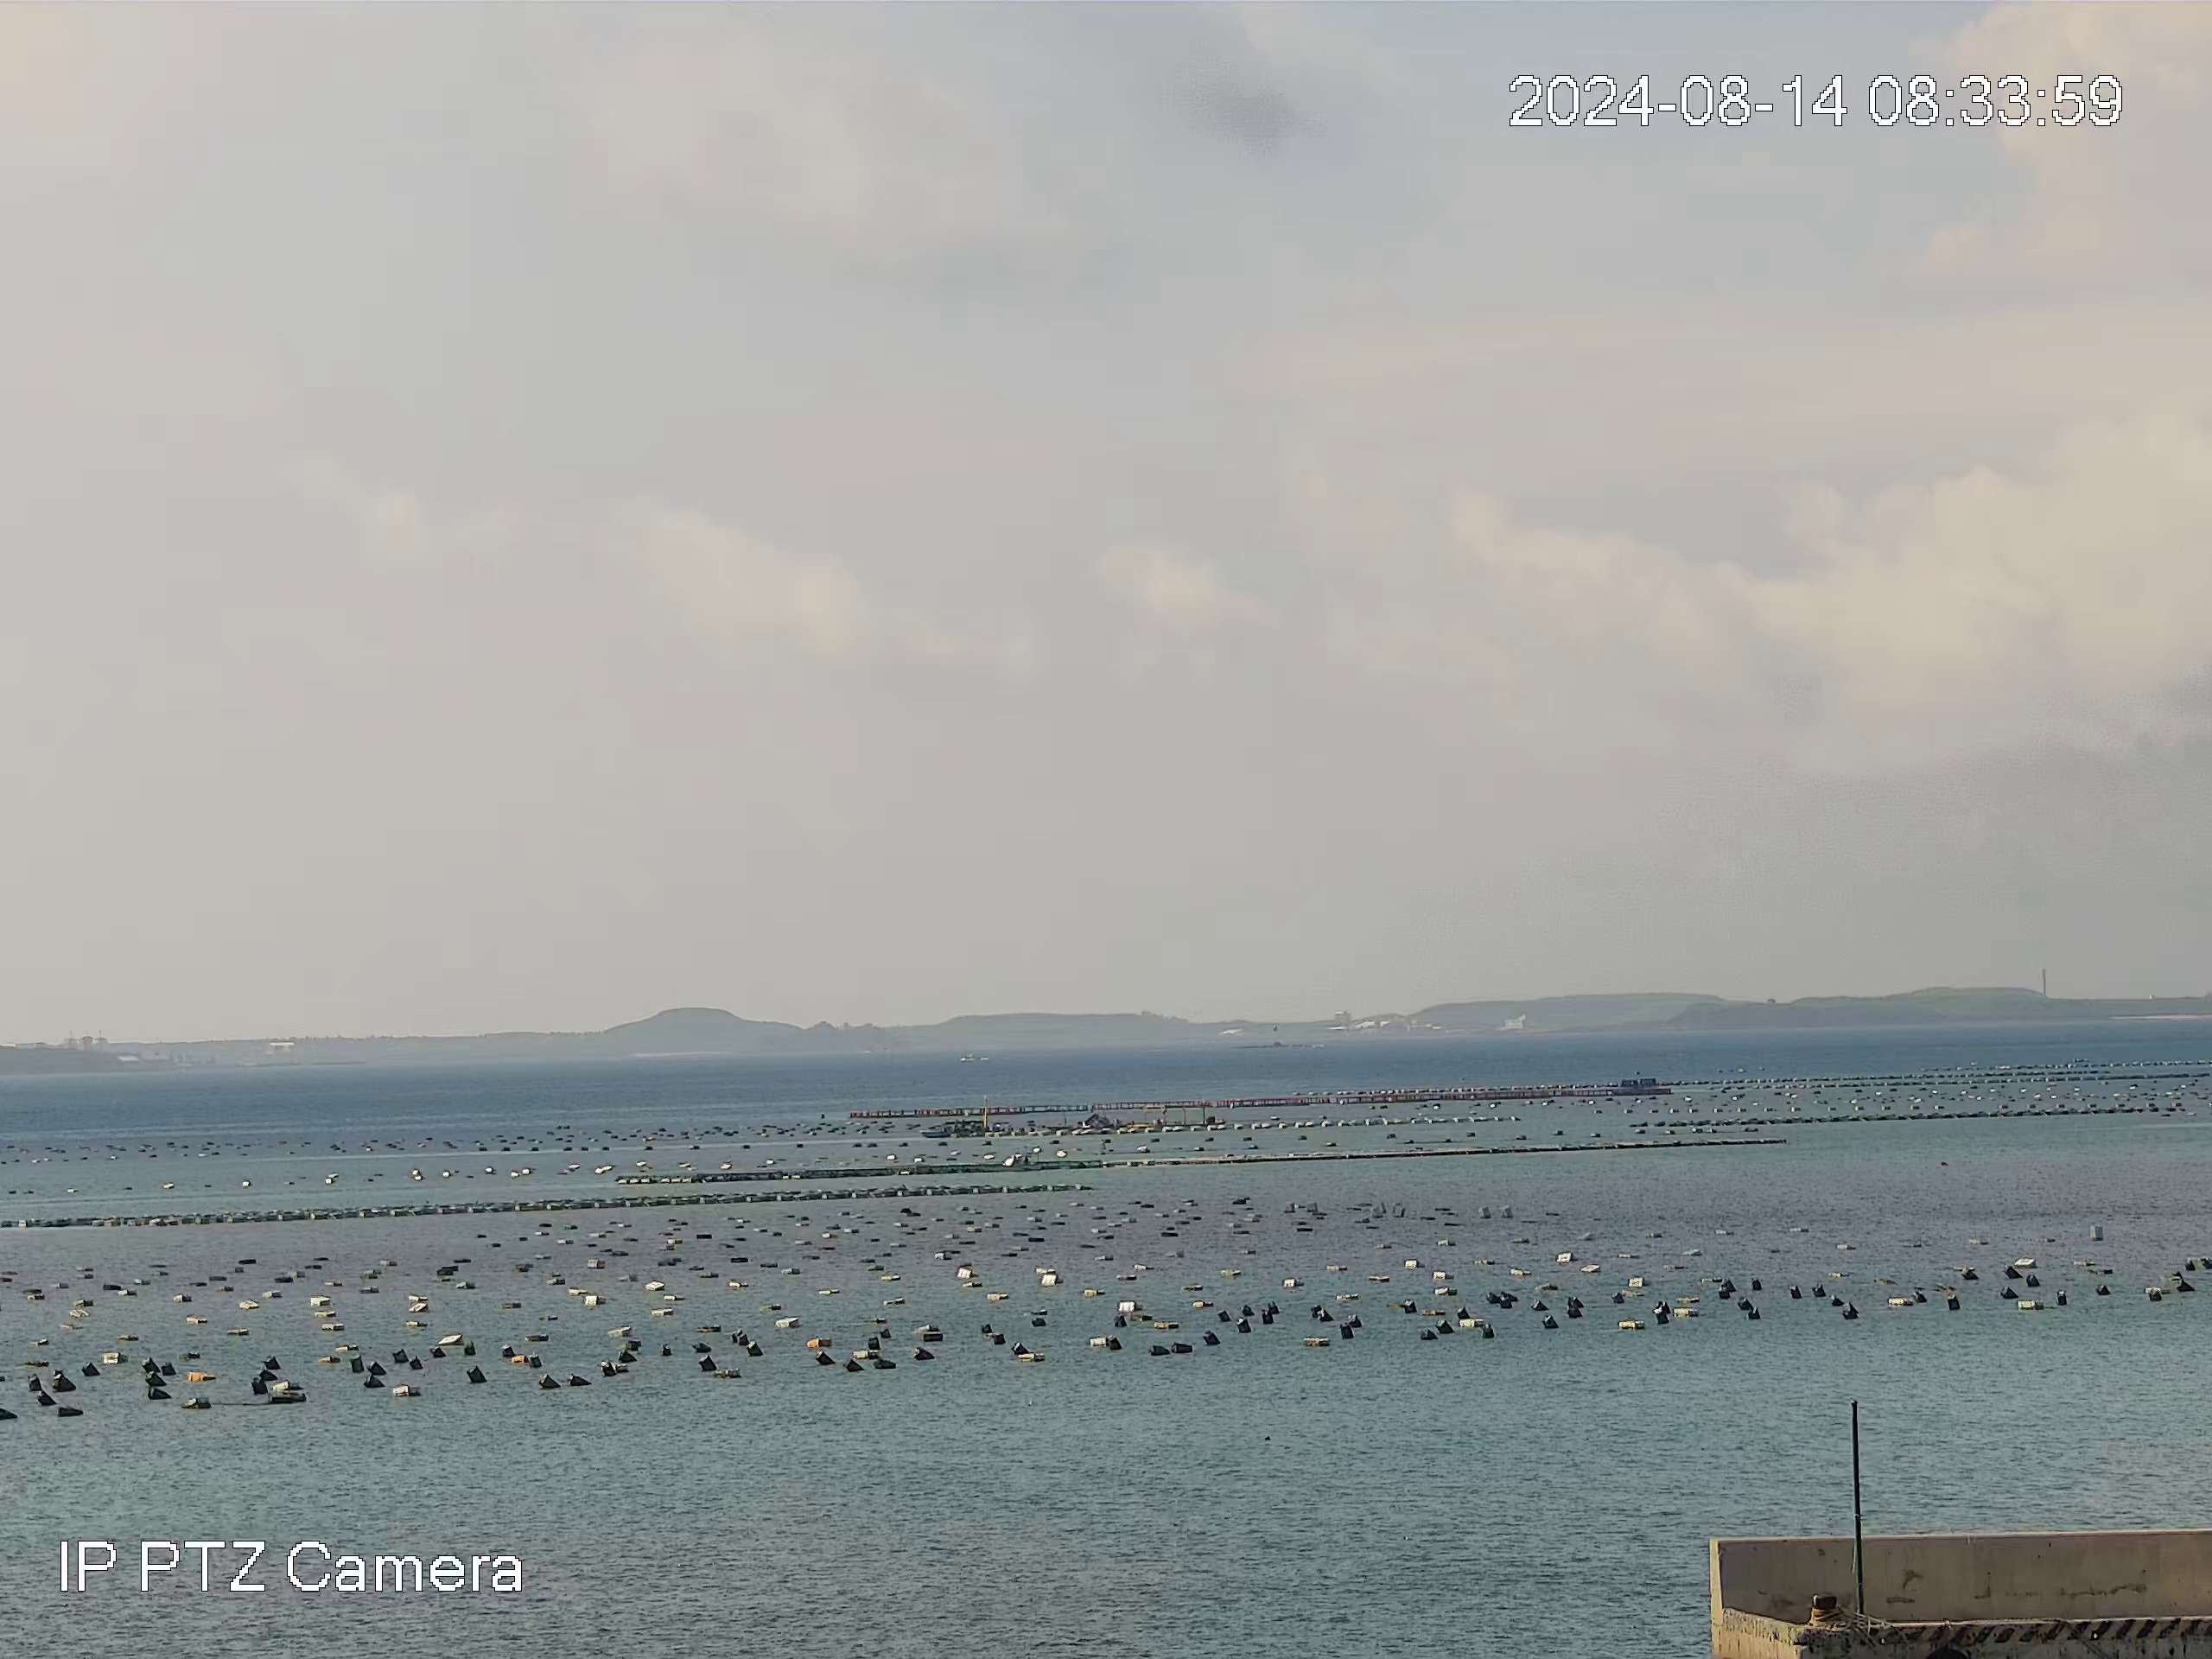boat: (927, 1121, 993, 1138)
